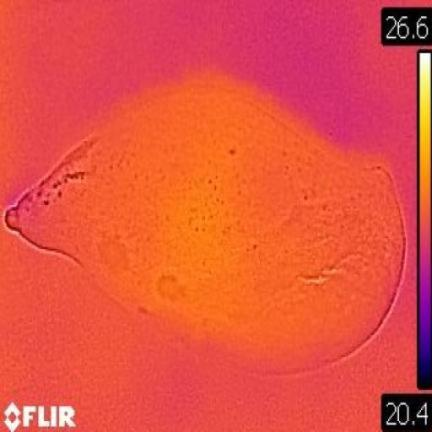mango: (7, 73, 404, 372)
